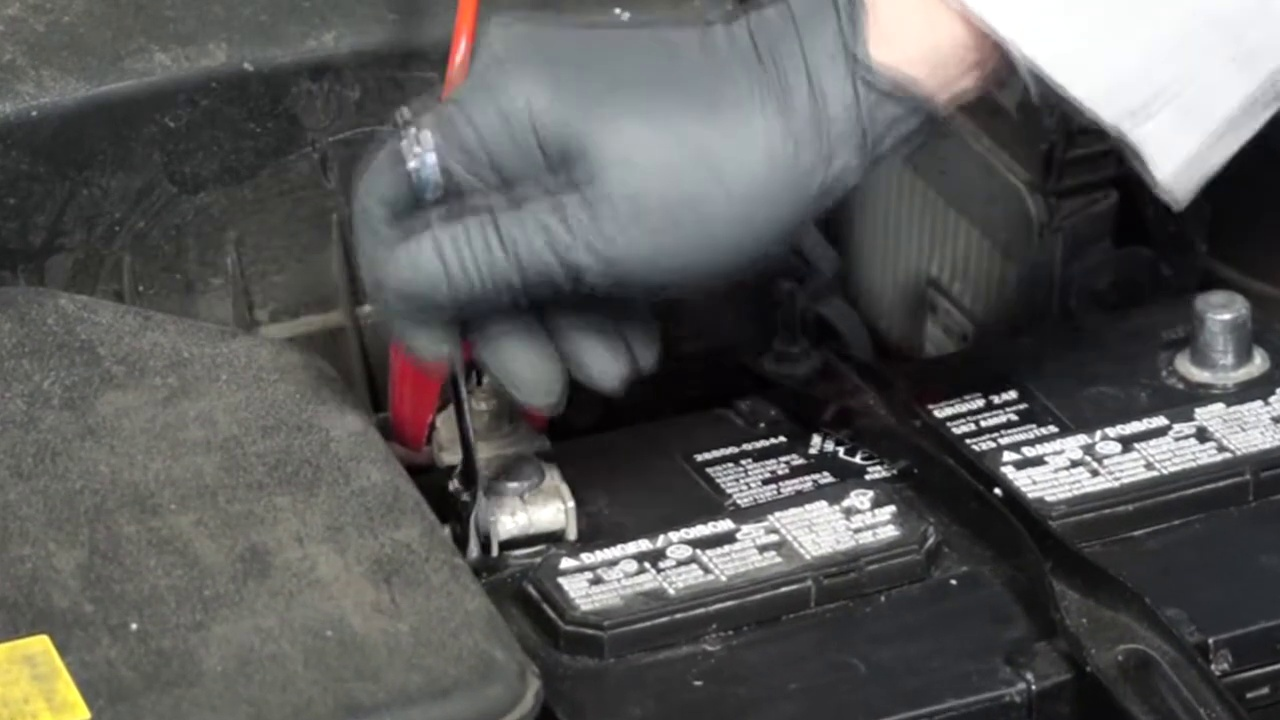battery: (411, 280, 1280, 693)
neg_disconnected: (1122, 245, 1280, 426)
pos_touched: (363, 164, 668, 566)
